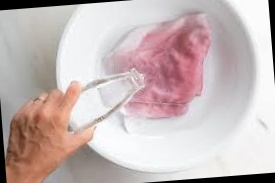wine: (108, 20, 211, 123)
